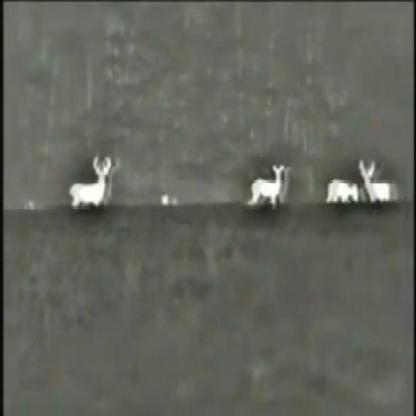rehkitze: (71, 154, 109, 210), (358, 156, 398, 202), (248, 162, 282, 210), (325, 176, 360, 204)
